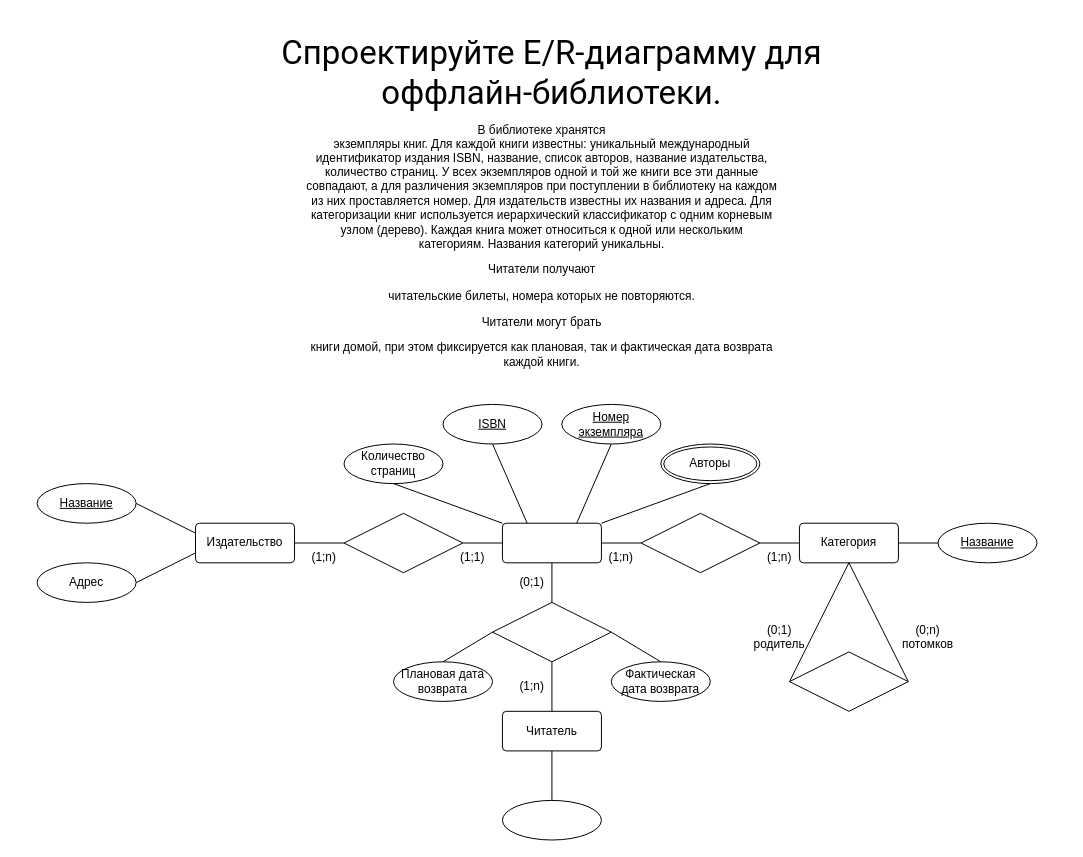
Image size: 1083x857. Some labels were removed from this diagram. The shapes that lost their labels are listed below. From the top down, each one's centre as x and y in pixels, then its label:
the point at 403,542: Печатает
the point at 551,542: Книга
the point at 700,542: Относится
the point at 551,631: Берёт домой
the point at 848,681: Иерархия
the point at 551,819: № читательского билета
